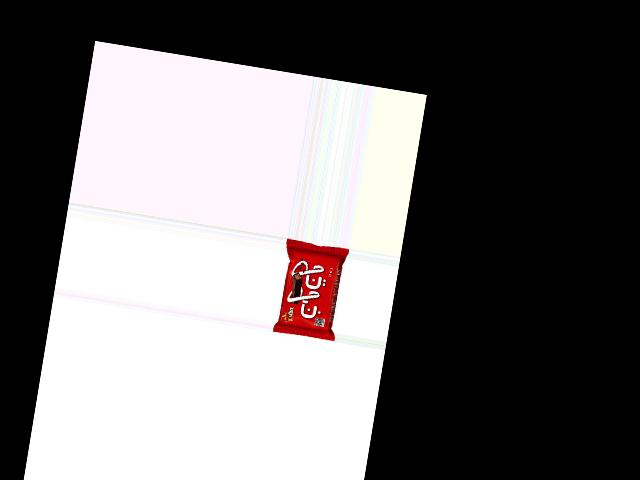chocolate: (272, 239, 350, 341)
